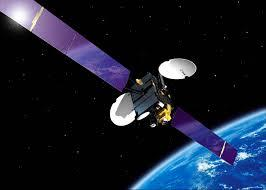antenna: (108, 92, 139, 128), (158, 56, 199, 81)
body: (130, 72, 174, 131)
solar: (0, 0, 133, 95), (169, 106, 240, 168)
thruster: (162, 116, 169, 125)
